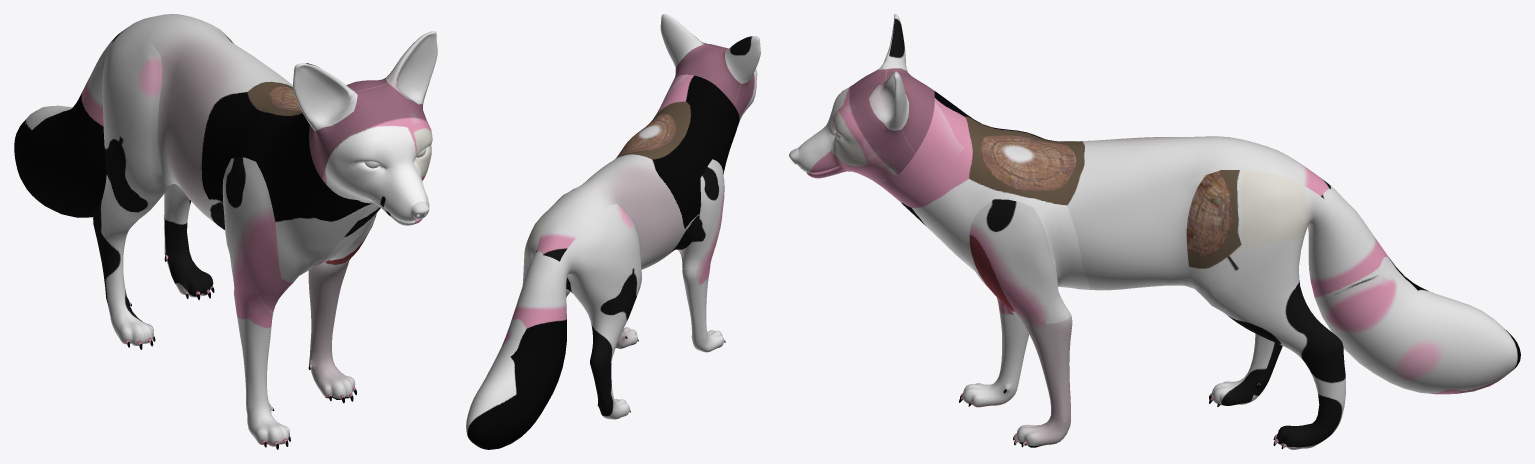
3 views of the same model, side by side, from view 1: azimuth 30°, elevation 25°; view 2: azimuth 150°, elevation 25°; view 3: azimuth 270°, elevation 25° (orthographic). The views are drawn at different scales.
Visible parts, largest first — view 1: fox.1_1; view 2: fox.1_1; view 3: fox.1_1.
Boxes of the visible parts, <box> form: fox.1_1: <box>14,14,437,449</box>; fox.1_1: <box>466,14,760,449</box>; fox.1_1: <box>789,14,1520,449</box>.
Bounding box in the file's own units: 0.0304 × 0.0844 × 0.1472.
